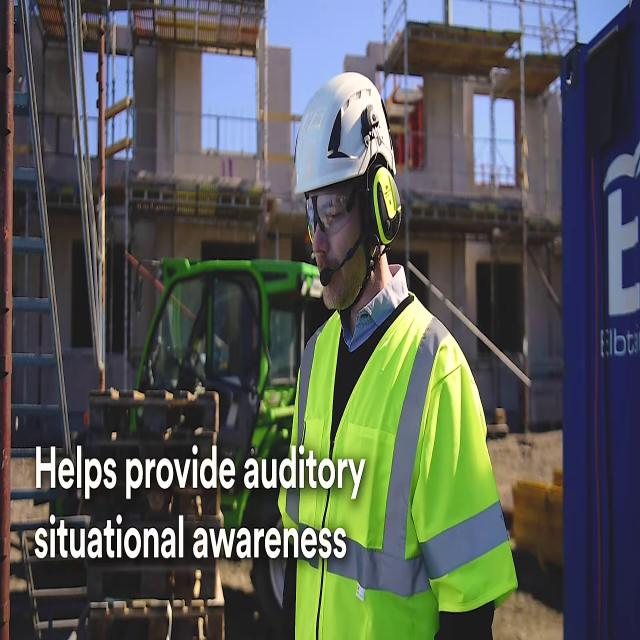earmuff: (371, 171, 395, 240)
glasses: (304, 198, 349, 229)
helmet: (305, 92, 360, 162)
